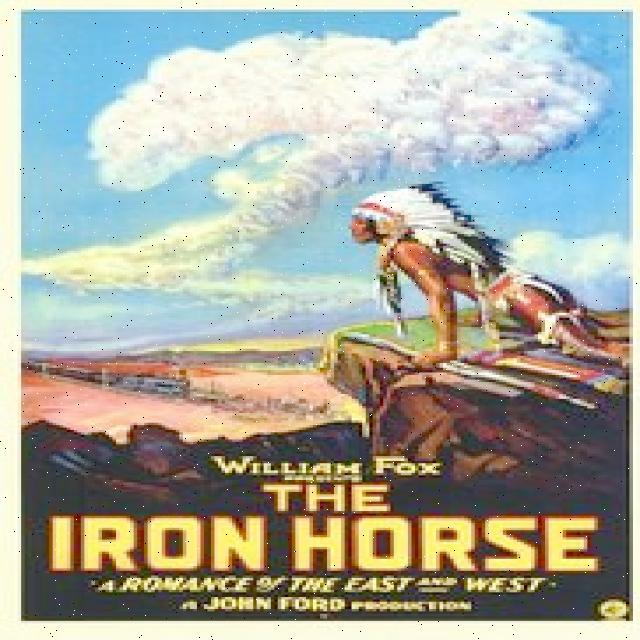movie-judul: (23, 476, 628, 599)
picture: (315, 180, 640, 370)
